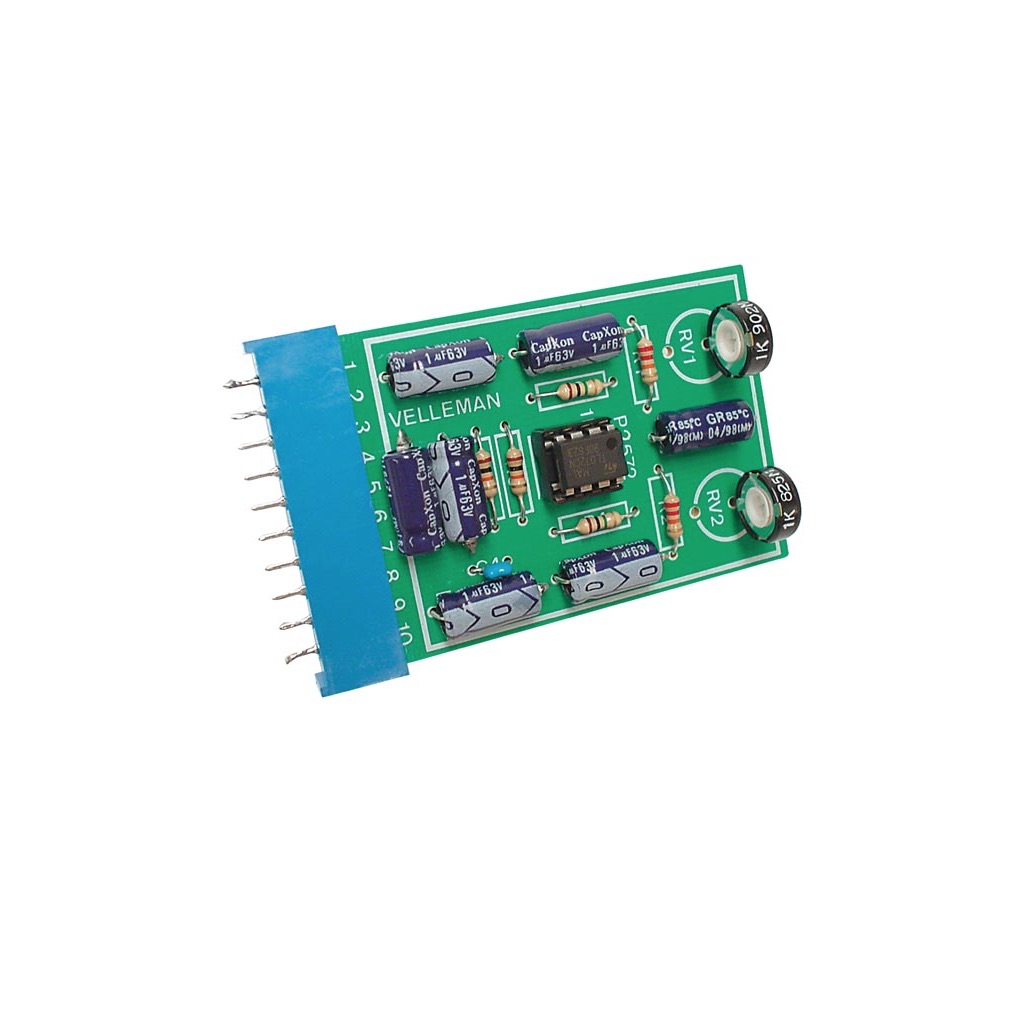Capacitor: (383, 334, 501, 402), (380, 443, 449, 558), (517, 311, 625, 380), (434, 570, 542, 639), (425, 432, 490, 544), (558, 537, 663, 605), (652, 394, 756, 456)
Resistor: (632, 334, 663, 392), (659, 487, 687, 546), (501, 442, 530, 498), (473, 446, 501, 504), (572, 508, 625, 538), (549, 377, 608, 403)
